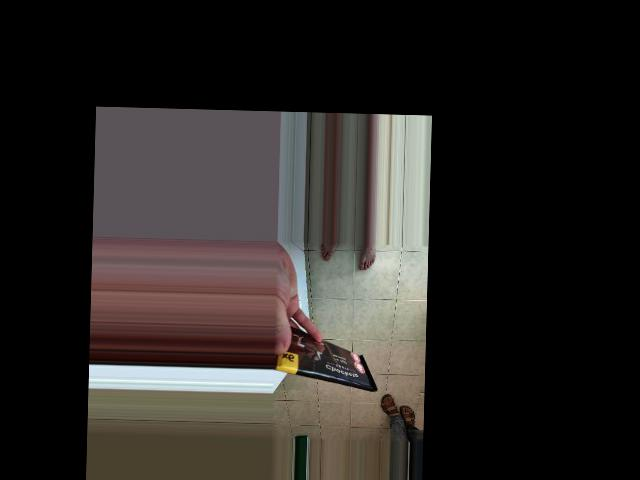chocolate: (272, 309, 381, 399)
